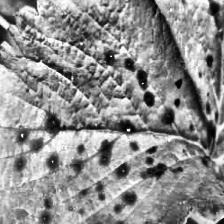Leaf Spot: (0, 0, 224, 224), (145, 0, 224, 150)
